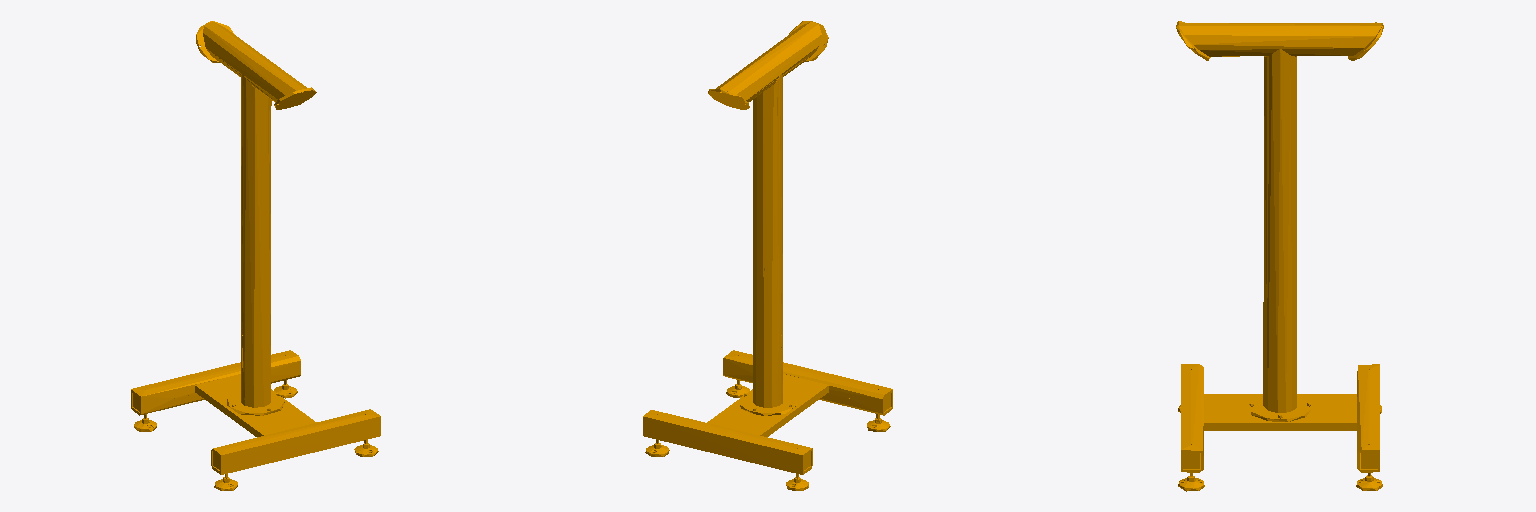
URDF robot description (stand):
<?xml version="1.0"?>
<robot name="stand">
  <link name="stand">
    <visual>
      <origin rpy="0 3.1415 1.5708" xyz="0.0 0.0 0.0" />
      <geometry>
        <mesh filename="stand.obj" scale="0.1 0.1 0.1" />
      </geometry>
    </visual>
    <collision>
      <origin rpy="0 3.1415 1.5708" xyz="0.0 0.0 0.0" />
      <geometry>
        <mesh filename="stand.obj" scale="0.1 0.1 0.1" />
      </geometry>
    </collision>
  </link>
</robot>

--- What the picture shows (computed from the rendered views, not written in the file) ---
The picture shows the robot from 3 angles, left to right: view 1: azimuth 30°, elevation 25°; view 2: azimuth 150°, elevation 25°; view 3: azimuth 270°, elevation 25°; orthographic projection.
Model stand with 1 links and 0 joints (none), rooted at stand, posed all joints at 0.
Links seen in each view (by area): view 1: stand; view 2: stand; view 3: stand.
Link boxes in pixels (x1,y1,x2,y2): stand: (131,21,380,490); stand: (643,21,892,490); stand: (1176,21,1383,491).
Bounding box of the posed robot: 0.6113 × 0.6244 × 1.41 m (x, y, z).
Meshes: 1 distinct files referenced, 1 mesh visuals loaded (1 OBJ).
